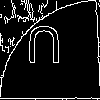U: (25, 25, 63, 73)
